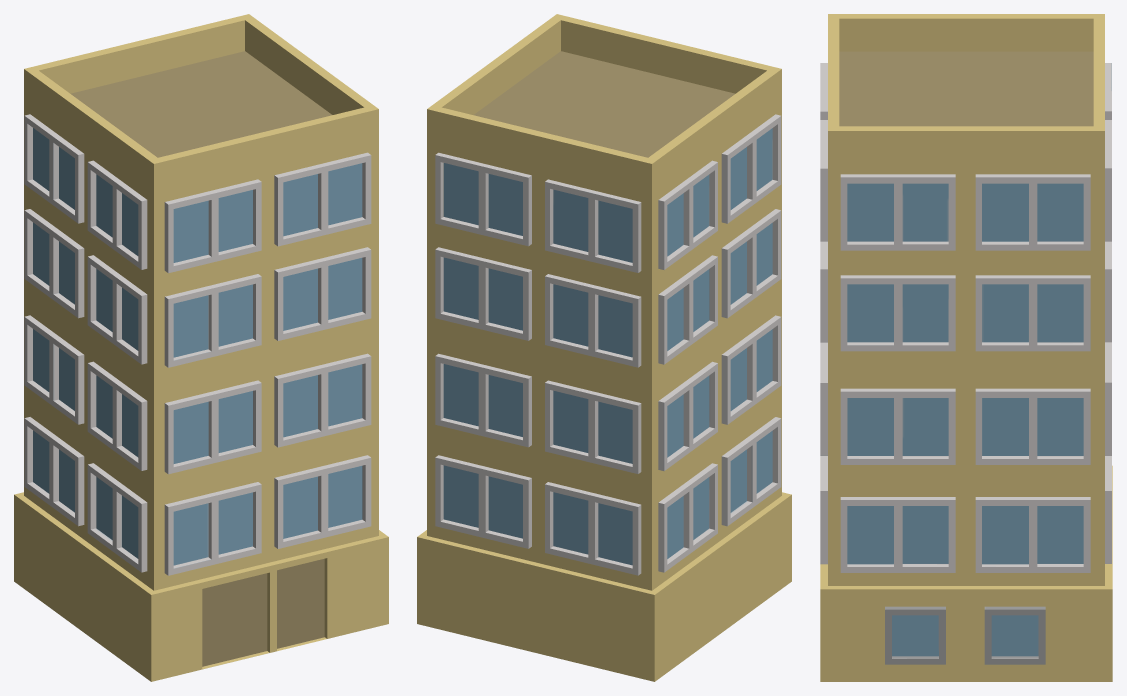
File: TallYellowBuildin.fbx
The picture shows the model from 3 angles, left to right: view 1: azimuth 30°, elevation 25°; view 2: azimuth 150°, elevation 25°; view 3: azimuth 270°, elevation 25°; orthographic projection. The views are drawn at different scales.
Parts seen in each view (by area): view 1: TallYellowBuilding; view 2: TallYellowBuilding; view 3: TallYellowBuilding.
Boxes of the visible parts, x1=… form: TallYellowBuilding: x1=14, y1=14, x2=388, y2=681; TallYellowBuilding: x1=417, y1=14, x2=791, y2=681; TallYellowBuilding: x1=820, y1=14, x2=1112, y2=681.
Bounding box in the file's own units: 157 × 318 × 154.
